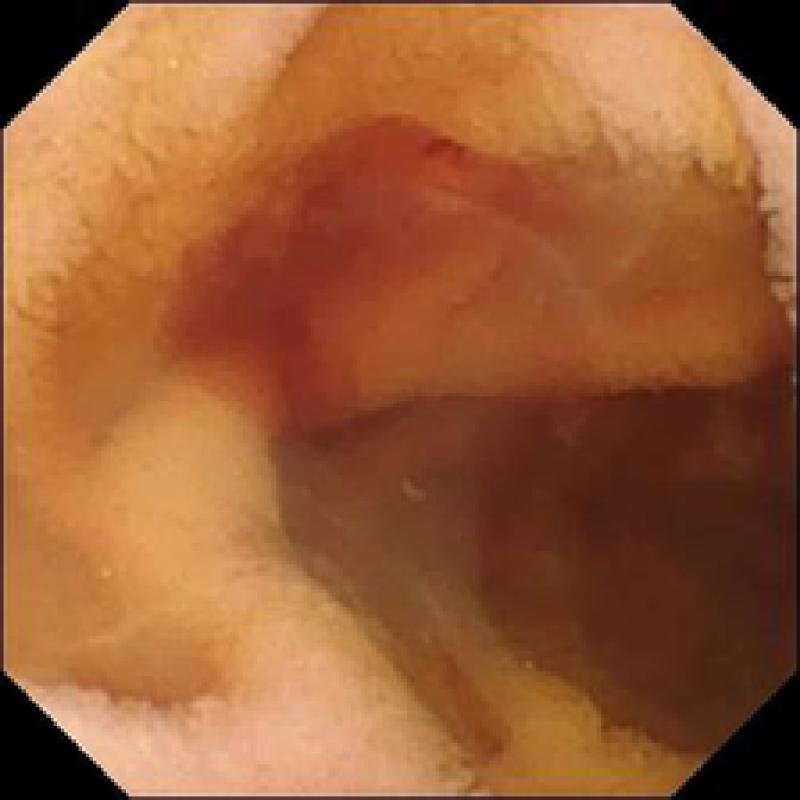bleeding: (121, 100, 546, 443)
